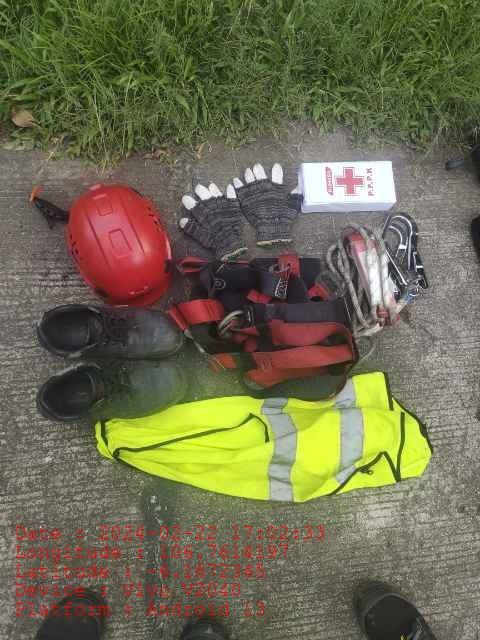HELM: (69, 182, 171, 306)
SEPATU: (31, 307, 188, 418)
TAMBANG_SLING: (333, 216, 427, 331)
